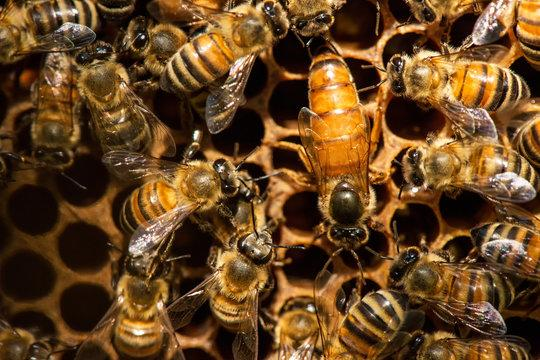Queen-Bee: (276, 44, 375, 261)
worker-bee: (168, 203, 278, 359), (160, 0, 288, 132), (102, 150, 259, 255), (385, 44, 529, 139), (388, 246, 520, 334), (75, 40, 175, 155), (75, 255, 184, 359), (401, 138, 539, 202), (325, 289, 424, 359), (0, 0, 99, 63), (30, 52, 80, 172), (470, 222, 539, 280), (401, 331, 531, 359), (7, 21, 95, 56), (50, 164, 51, 165)
